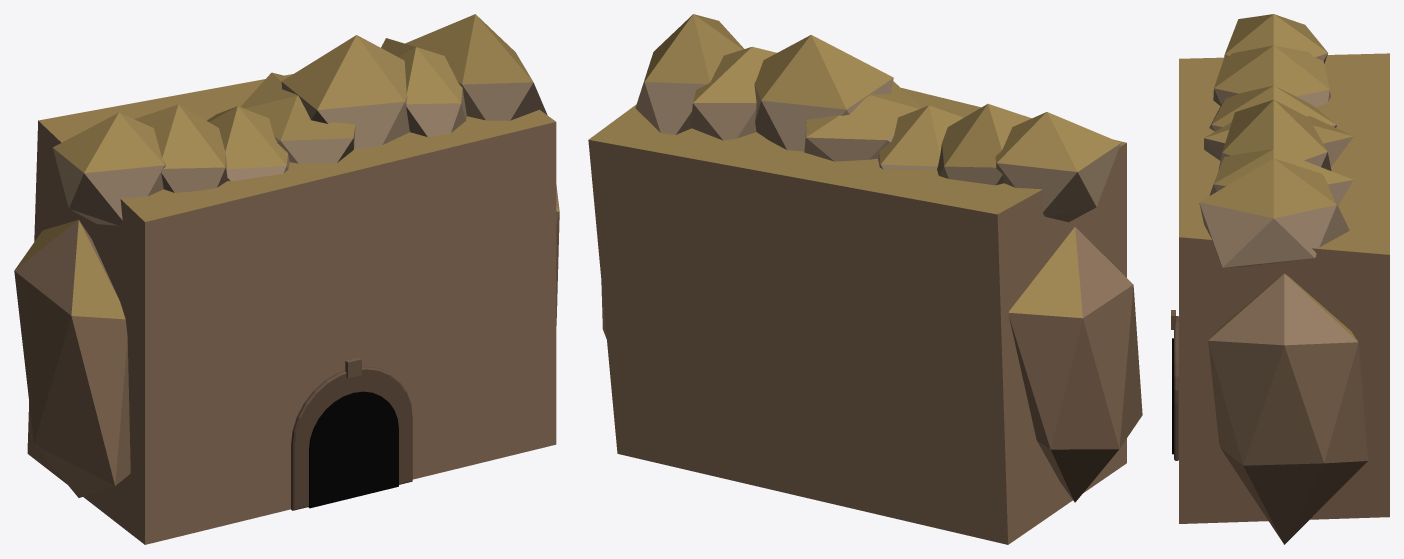
Rendered from TunnelCliff.glb.
The picture shows the model from 3 angles, left to right: view 1: azimuth 30°, elevation 25°; view 2: azimuth 150°, elevation 25°; view 3: azimuth 270°, elevation 25°; orthographic projection. The views are drawn at different scales.
Visible parts, largest first — view 1: TunnelCliff; view 2: TunnelCliff; view 3: TunnelCliff.
Boxes of the visible parts, x1,y1,x2,y2 form: TunnelCliff: (14,14,559,544); TunnelCliff: (588,14,1142,544); TunnelCliff: (1171,14,1389,544).
Bounding box in the file's own units: 152 × 119 × 62.21.
